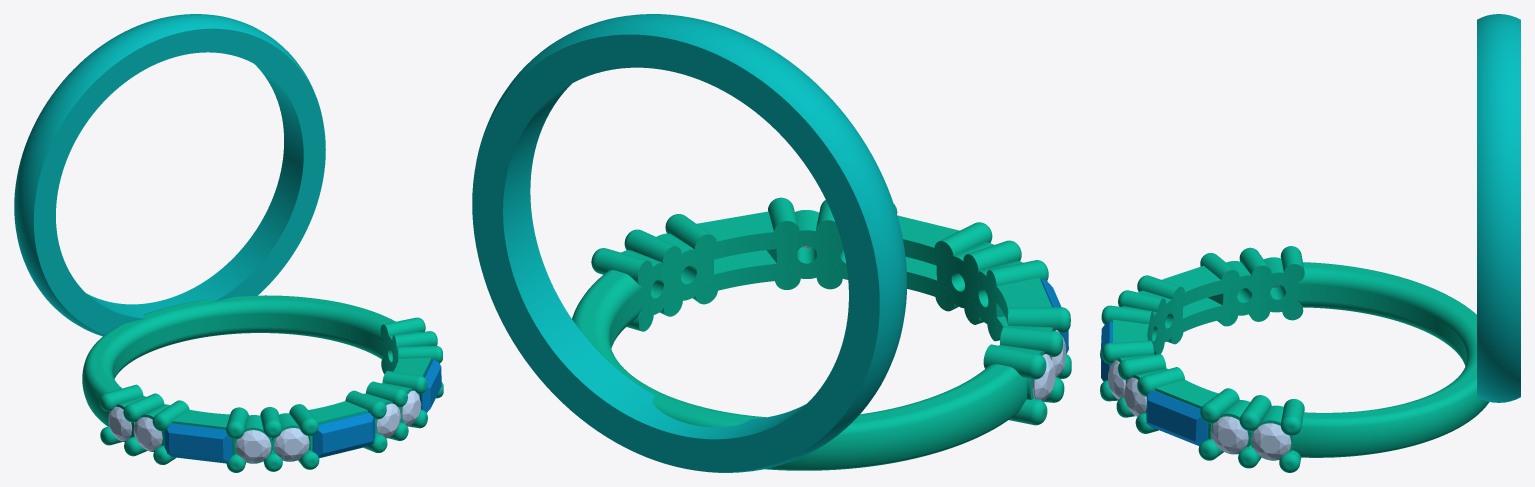
3 views of the same model, side by side, from view 1: azimuth 30°, elevation 25°; view 2: azimuth 150°, elevation 25°; view 3: azimuth 270°, elevation 25° (orthographic). The views are drawn at different scales.
Visible parts, largest first — view 1: VR BAGUETTE ROUND BAND(base).3dm, Diamond_Baguette Straight (×3), Diamond_Round (×6), Bezel (×3); view 2: VR BAGUETTE ROUND BAND(base).3dm, Bezel (×8), Diamond_Round; view 3: VR BAGUETTE ROUND BAND(base).3dm, Bezel (×7), Diamond_Round (×4), Diamond_Baguette Straight.
Part boxes in pixels (x1,y1,x2,y2): VR BAGUETTE ROUND BAND(base).3dm: (14,14,443,472); Diamond_Baguette Straight (×3): (164,359,441,463); Diamond_Round (×6): (108,390,421,463); Bezel (×3): (163,357,431,463); VR BAGUETTE ROUND BAND(base).3dm: (472,14,1071,472); Bezel (×8): (621,210,1051,338); Diamond_Round: (1032,354,1055,401); VR BAGUETTE ROUND BAND(base).3dm: (1100,14,1520,472); Bezel (×7): (1113,257,1298,460); Diamond_Round (×4): (1108,360,1291,459); Diamond_Baguette Straight: (1146,390,1208,445).
Size of the model in its own units: 2.86 by 2.7 by 2.89.
